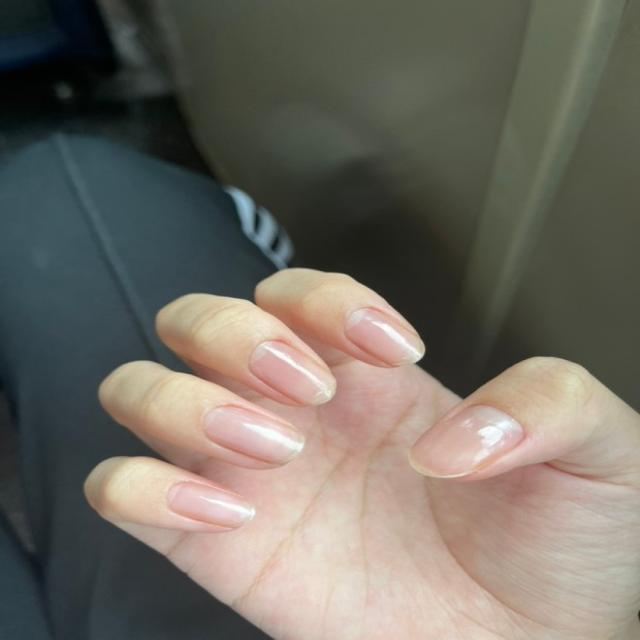Nail: (410, 405, 524, 478), (203, 406, 303, 463), (250, 340, 335, 405), (347, 309, 425, 366), (167, 480, 255, 529)
